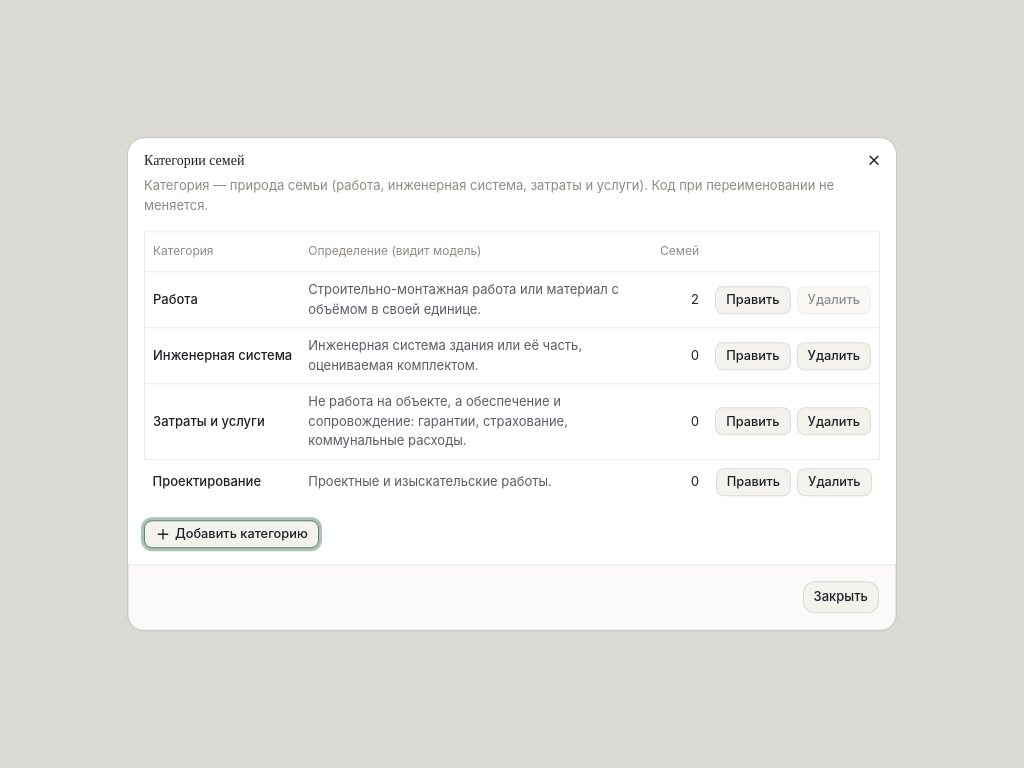
FamilyCategoriesDialog › «Править»: имя и определение уходят в PATCH, строка показывает новые значения
Expected: the text "Инженерная система" is shown, [144,328,300,384]
Click the button "Править" in the row of "Проектирование" at (753, 482), box [716,468,791,496]
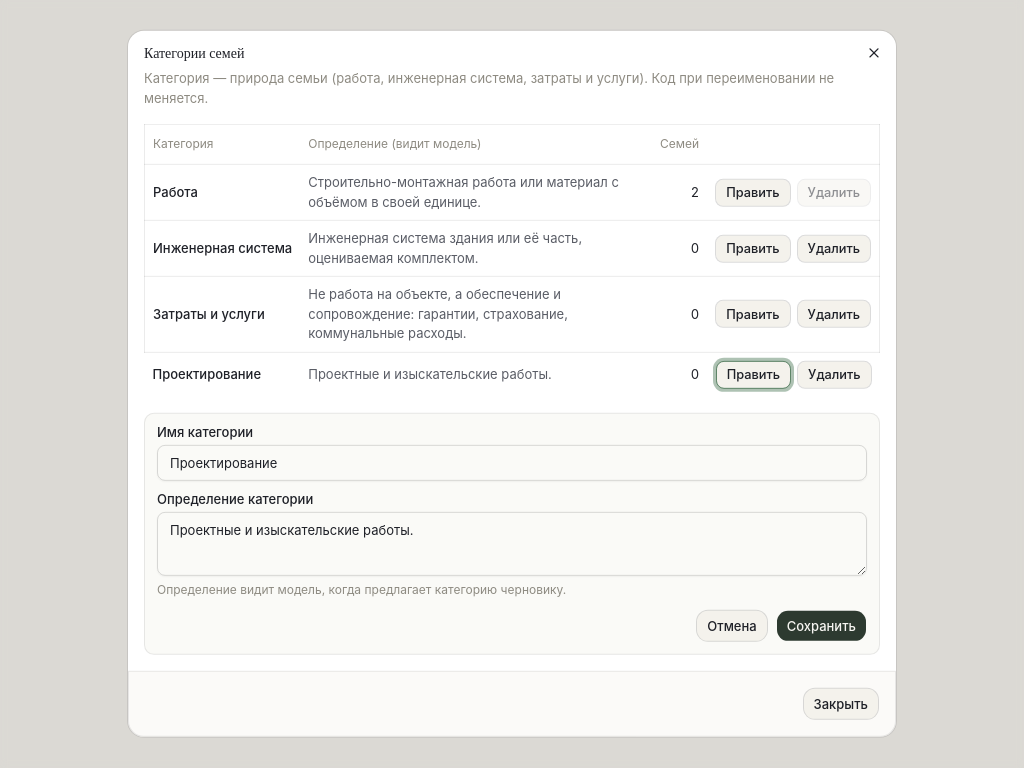
Expected: the field labelled "Имя категории" holds "Проектирование"
Replace the text in the field labelled "Имя категории" with "Проектные работы" at (512, 462), box [157,444,867,480]
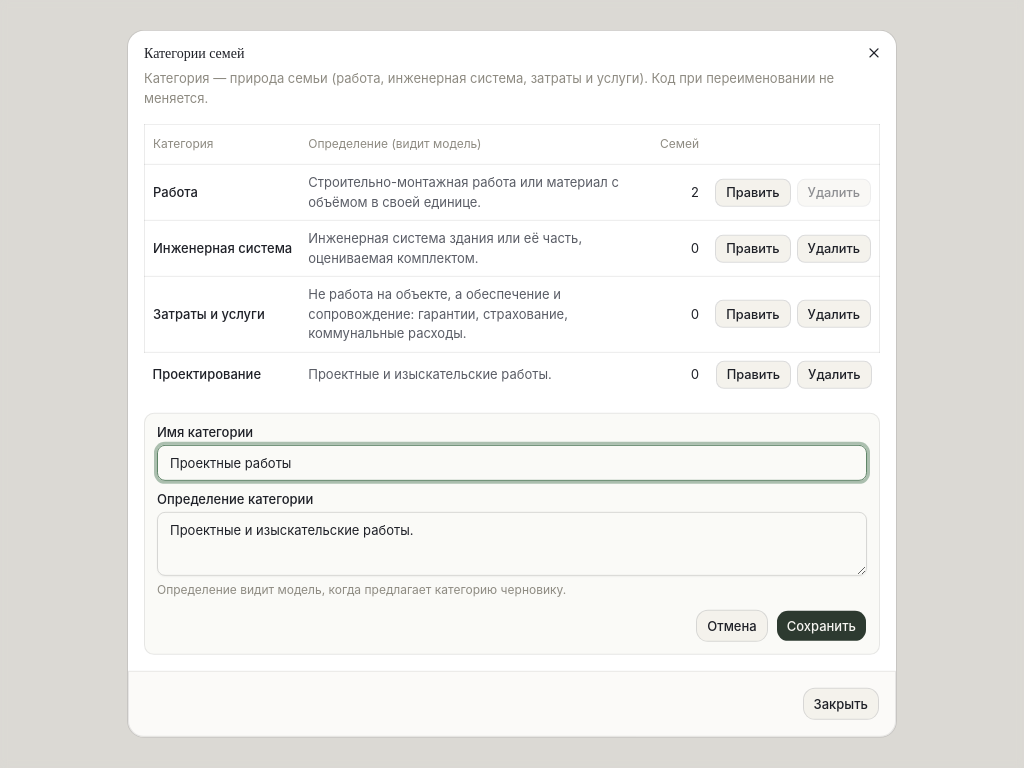
Replace the text in the text box labelled "Определение категории" with "Проекты и изыскания." at (512, 543), box [157,511,867,575]
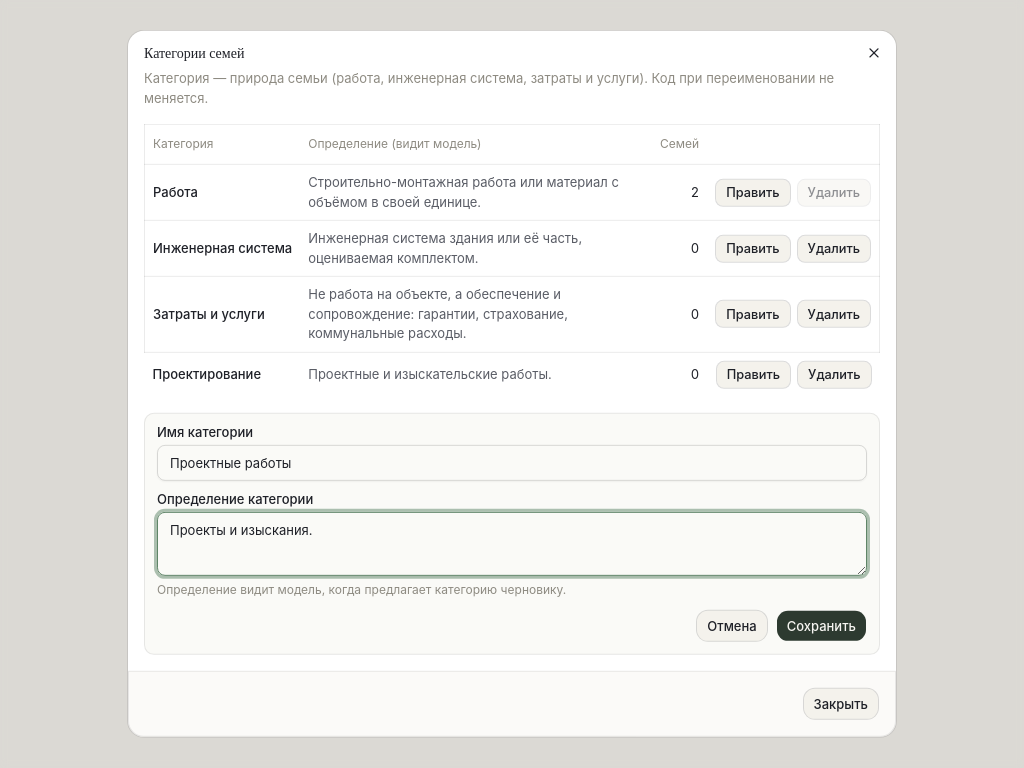
Click the button "Сохранить" at (821, 626), box [776,610,867,642]
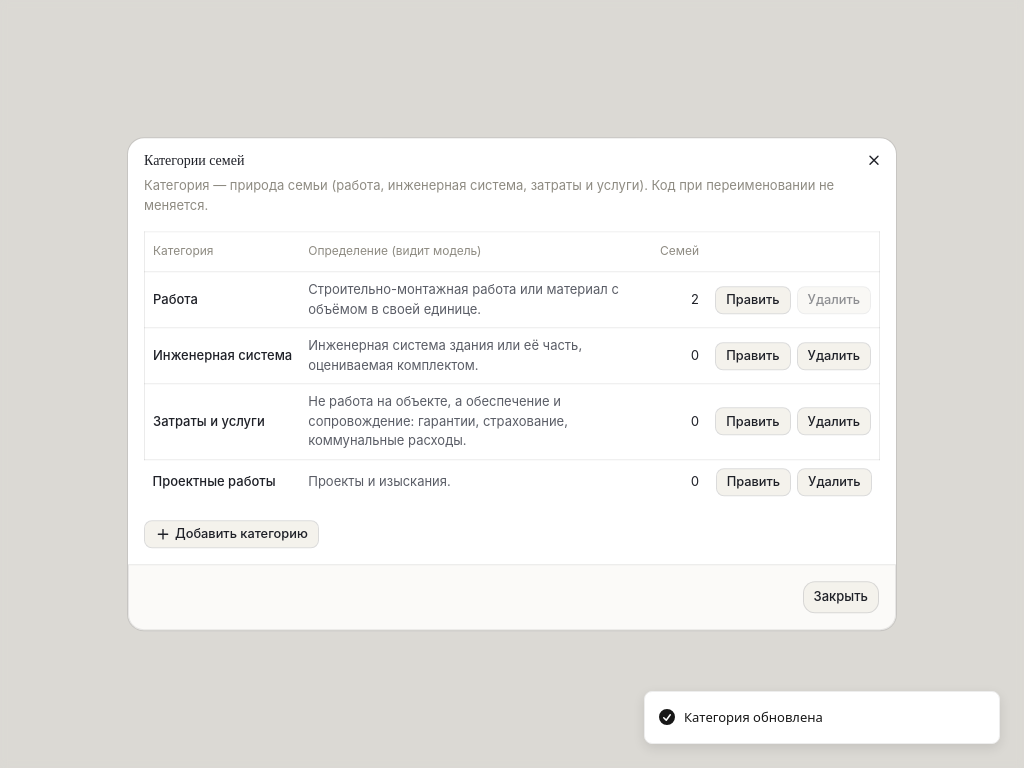
Expected: the text "Проектные работы" is shown, [144,459,300,504]
Expected: the text "Проектирование" is gone
